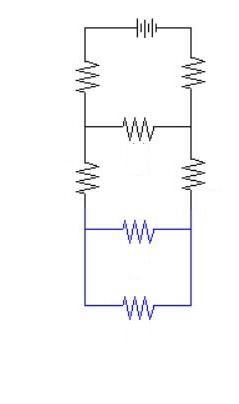resistor: (170, 139, 217, 199), (109, 207, 164, 251), (103, 285, 169, 321), (172, 42, 218, 93), (66, 154, 110, 207), (109, 109, 167, 140), (69, 45, 101, 98)
